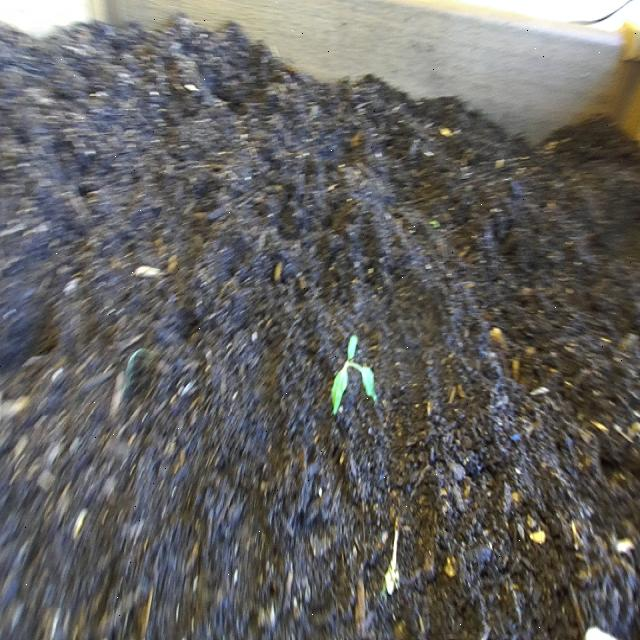Healthy: (323, 310, 388, 436)
